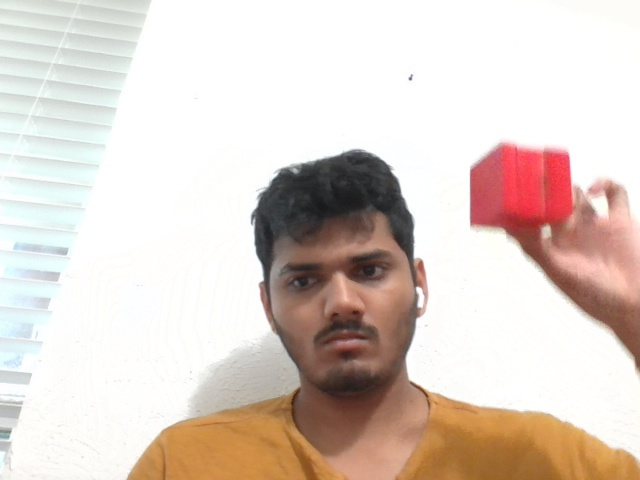RedBlock: (470, 140, 573, 233)
